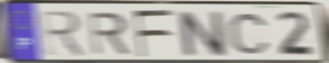2: (278, 10, 317, 58)
C: (225, 12, 272, 56)
F: (131, 8, 175, 59)
N: (175, 9, 230, 58)
R: (38, 9, 90, 59), (86, 10, 133, 57)
